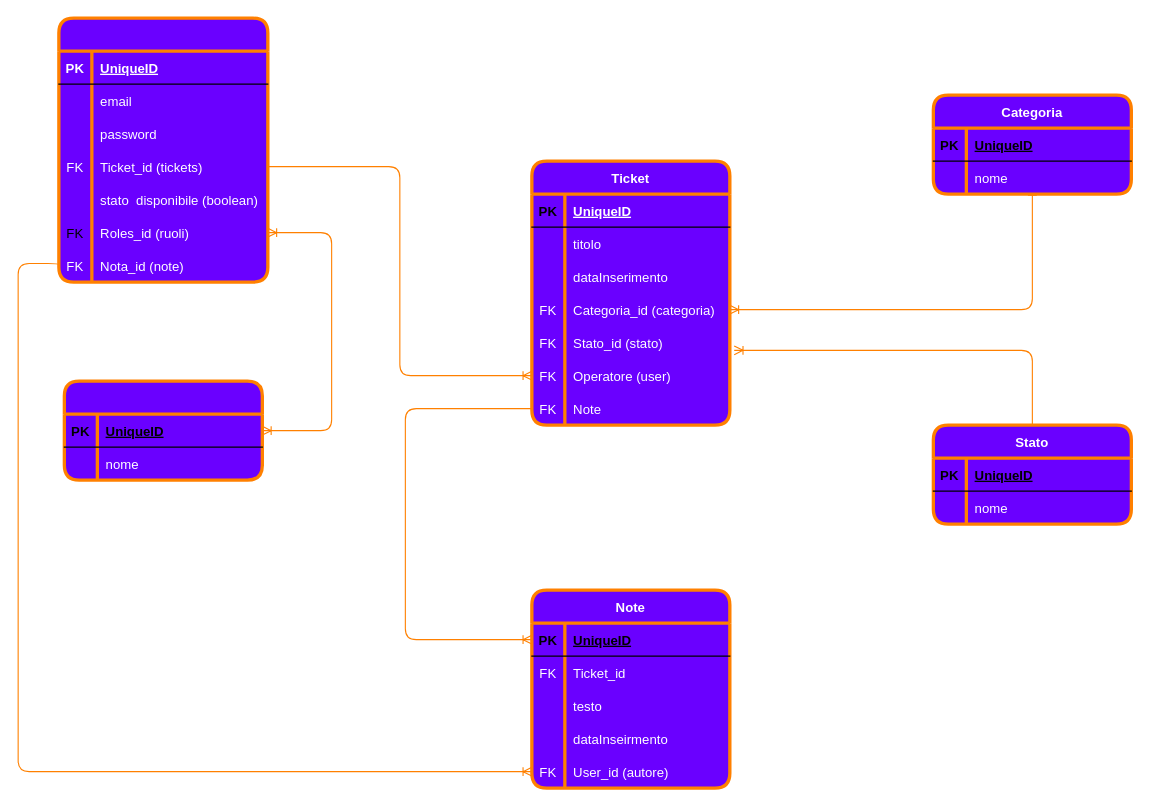
Image size: 1150x806. Some labels were removed from this diagram. Each missing label, with the box of its shape:
Roles: (62, 379, 263, 481)
User: (57, 16, 269, 283)
